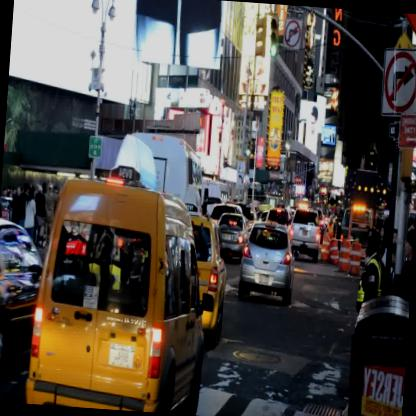car: (24, 181, 214, 416), (0, 215, 45, 393), (235, 221, 298, 306), (288, 209, 322, 264), (216, 214, 249, 262)
